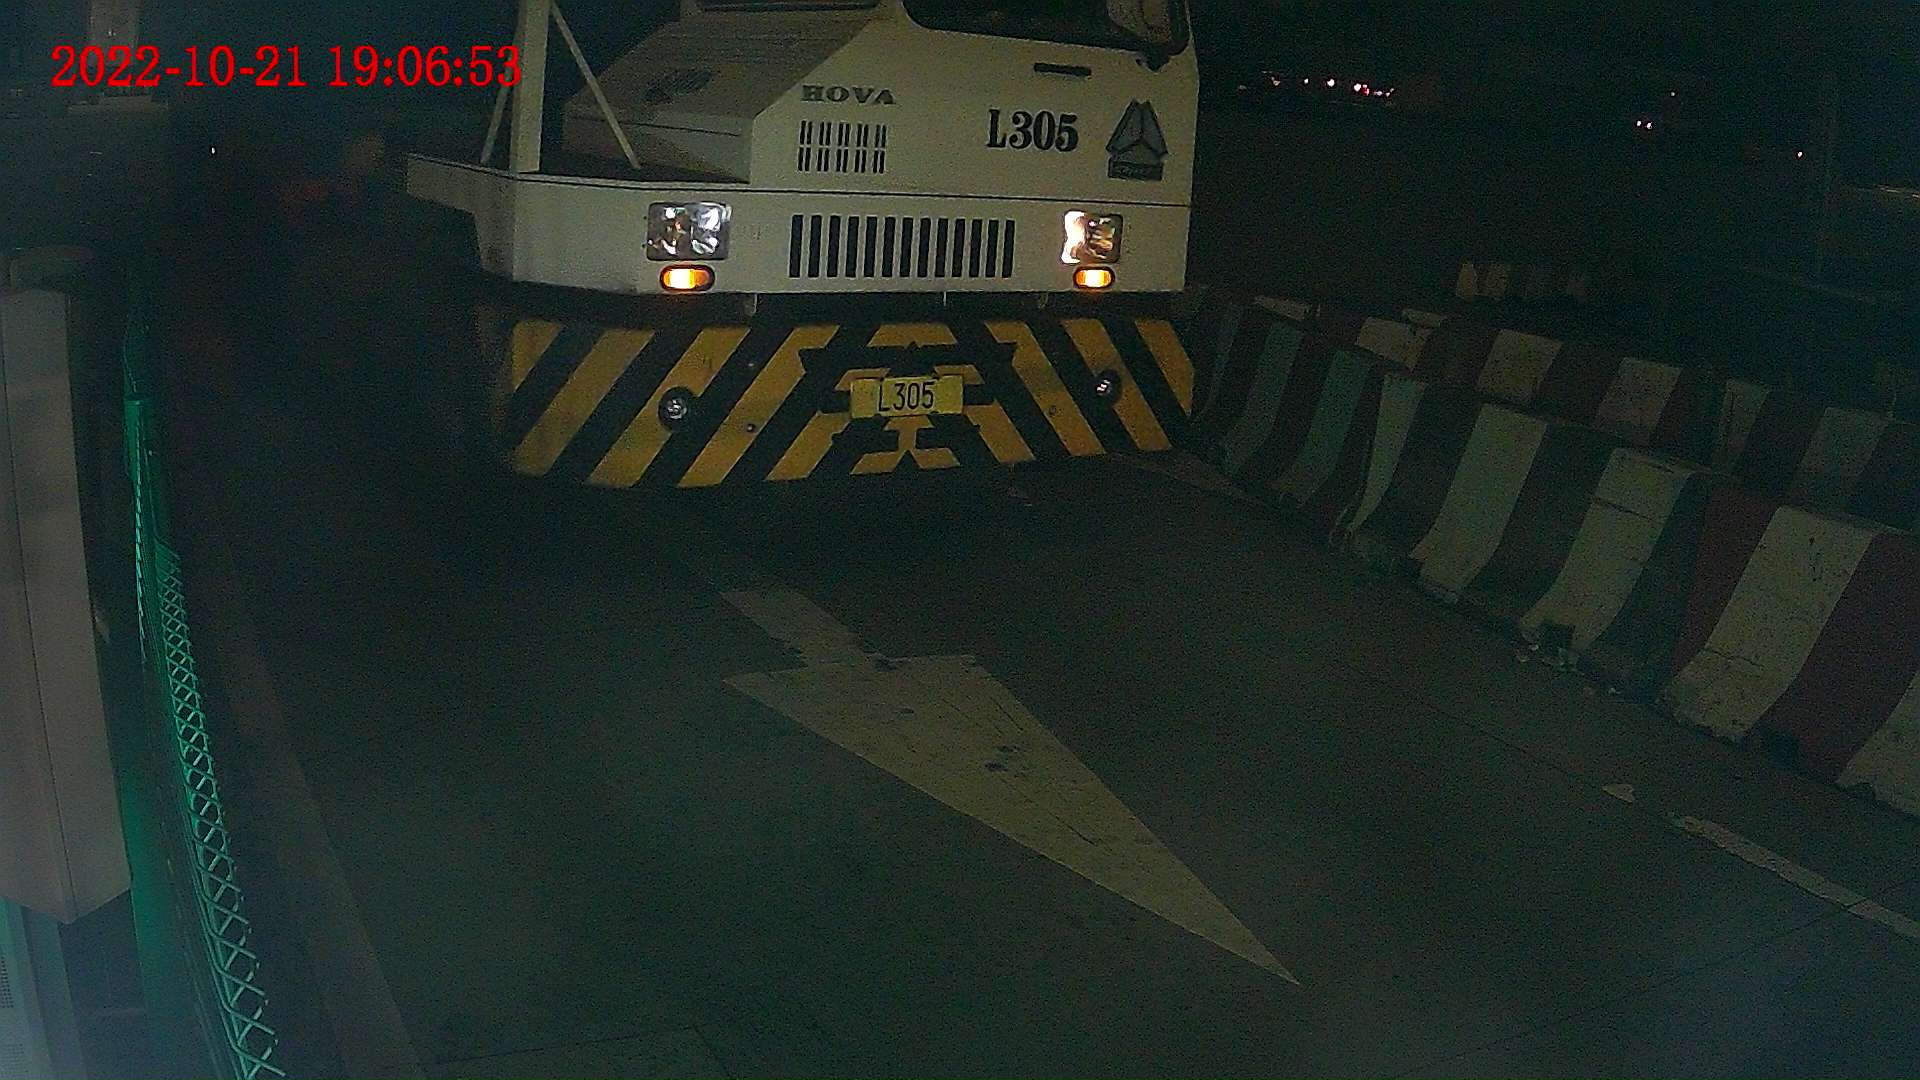head: (451, 1, 1202, 492)
plate: (846, 374, 960, 415)
